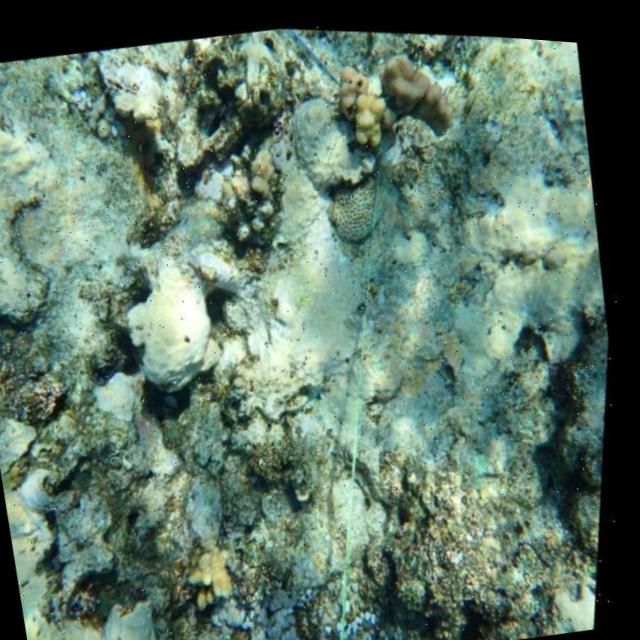Bleached Coral: (206, 521, 425, 640), (73, 31, 191, 160), (161, 106, 270, 235)
